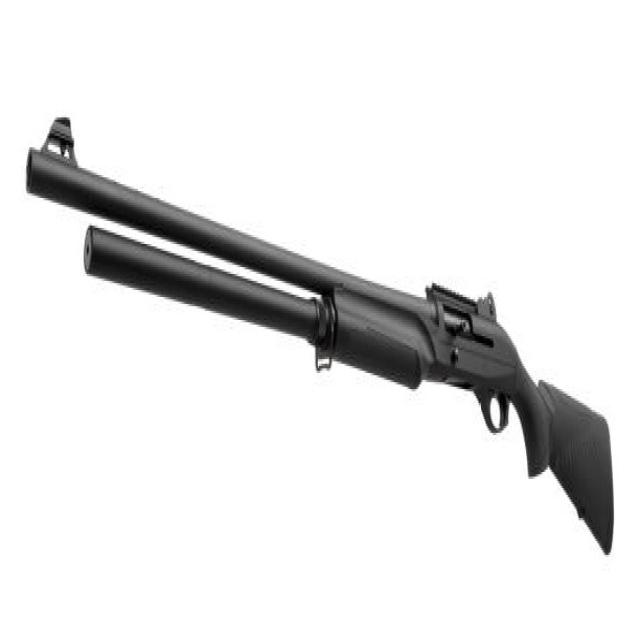rifle: (19, 111, 619, 566)
